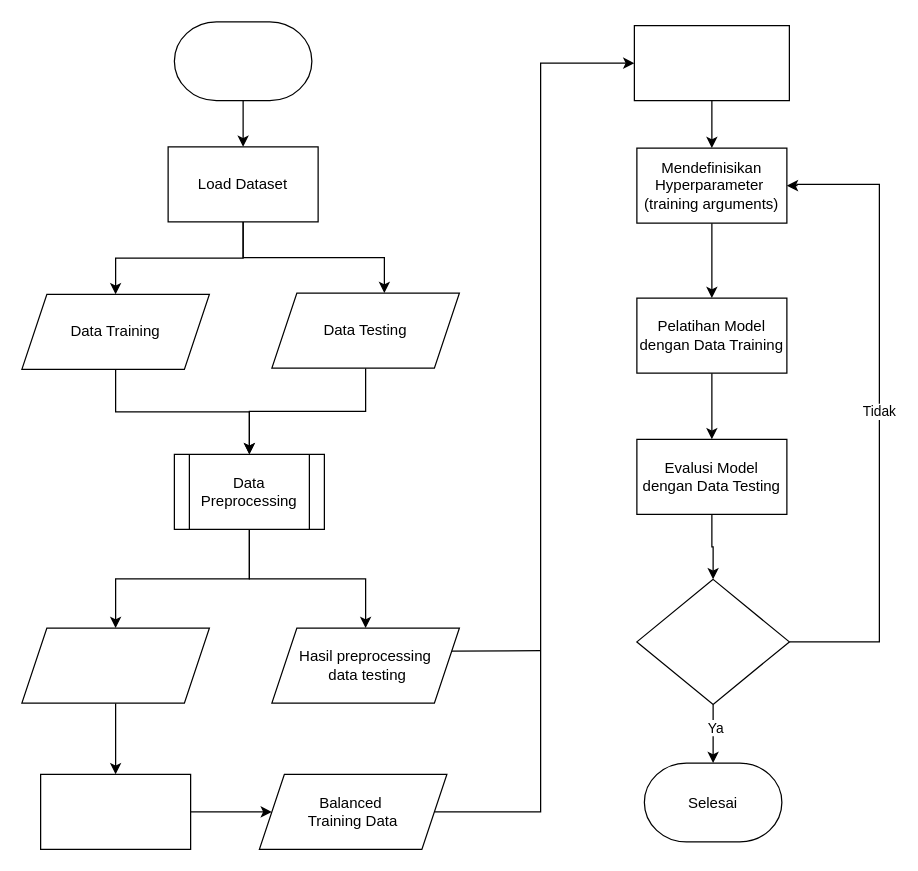
Some shapes in this 918 by 871 pixel diagram are drawn without their labels. Each missing label, with the box of its shape:
Balancing Data Training: (39, 773, 191, 849)
Hasil Evaluasi Baik?: (636, 578, 789, 704)
Hasil preprocessing data training: (21, 627, 209, 703)
Mendefinisikan Metriks Evaluasi: (633, 24, 789, 101)
Mulai: (173, 21, 312, 101)
